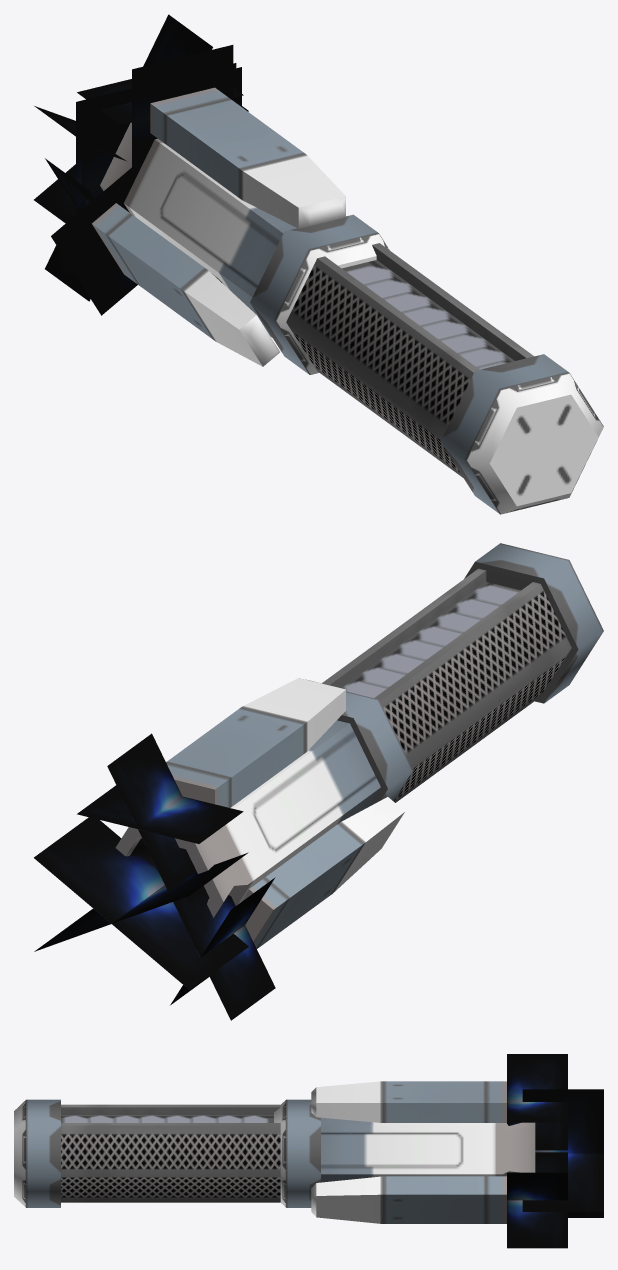
The model's file is rocket.glb.
The picture shows the model from 3 angles, top to bottom: view 1: azimuth 30°, elevation 25°; view 2: azimuth 150°, elevation 25°; view 3: azimuth 270°, elevation 25°; orthographic projection. The views are drawn at different scales.
Visible parts, largest first — view 1: vl-silo-5-0, vl-silo-5-2, vl-silo-5-2-1; view 2: vl-silo-5-0, vl-silo-5-2, vl-silo-5-2-1; view 3: vl-silo-5-0, vl-silo-5-2-2, vl-silo-5-2.
Part boxes in pixels (x1=…): vl-silo-5-0: x1=34, y1=14, x2=603, y2=514; vl-silo-5-2: x1=150, y1=87, x2=345, y2=228; vl-silo-5-2-1: x1=92, y1=203, x2=279, y2=366; vl-silo-5-0: x1=34, y1=543, x2=603, y2=1020; vl-silo-5-2: x1=166, y1=678, x2=345, y2=807; vl-silo-5-2-1: x1=240, y1=797, x2=404, y2=948; vl-silo-5-0: x1=14, y1=1054, x2=603, y2=1248; vl-silo-5-2-2: x1=311, y1=1176, x2=506, y2=1223; vl-silo-5-2: x1=311, y1=1081, x2=506, y2=1122.
Bounding box in the file's own units: 5.12 × 4.48 × 14.54.
2 materials, 2 textured.
